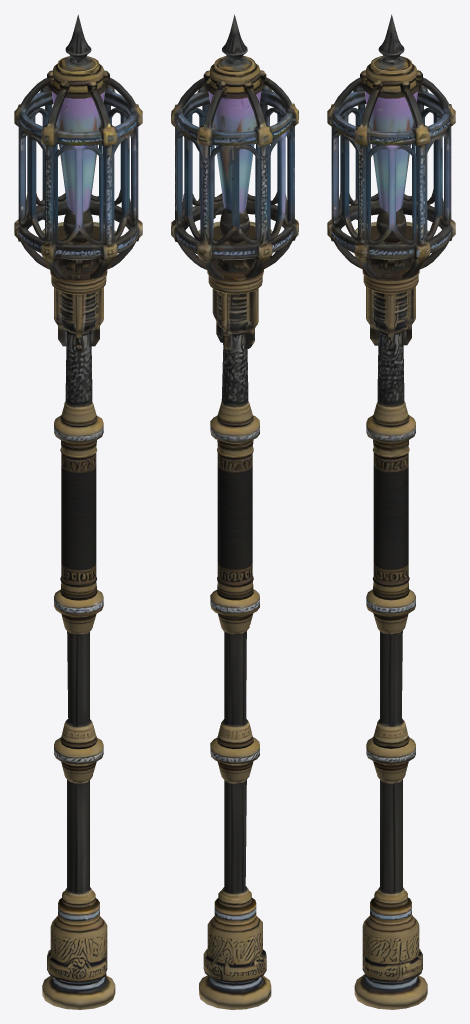
File: selected.fbx
The picture shows the model from 3 angles, left to right: view 1: azimuth 90°, elevation 25°; view 2: azimuth 150°, elevation 25°; view 3: azimuth 270°, elevation 25°; orthographic projection.
Visible parts, largest first — view 1: tripo_node_dab2c168-cc7d-4e70-99b1-f47eb9d0caa9; view 2: tripo_node_dab2c168-cc7d-4e70-99b1-f47eb9d0caa9; view 3: tripo_node_dab2c168-cc7d-4e70-99b1-f47eb9d0caa9.
Part boxes in pixels (x1,y1,x2,y2): tripo_node_dab2c168-cc7d-4e70-99b1-f47eb9d0caa9: (14,14,142,1009); tripo_node_dab2c168-cc7d-4e70-99b1-f47eb9d0caa9: (171,14,298,1009); tripo_node_dab2c168-cc7d-4e70-99b1-f47eb9d0caa9: (327,14,455,1009).
Bounding box in the file's own units: 0.1069 × 0.9995 × 0.1187.
Materials: 1 (1 with a texture image).
